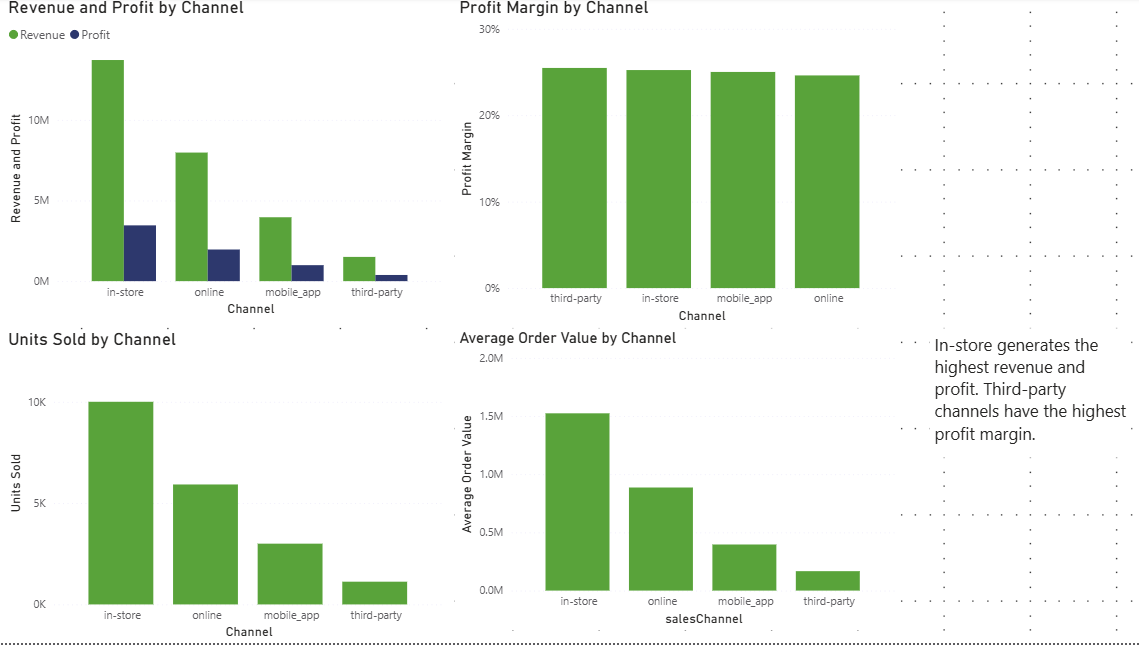

The page's visual inventory and layout, read from the dashboard file:
{"tool":"powerbi","page":{"name":"Channel Insights","canvas":[1280,720],"ordinal":2},"visuals":[{"type":"clusteredColumnChart","fields":{"Category":["Sheet1.salesChannel"],"Y":["Sum(Sheet1.totalAmount)","Sum(Sheet1.Profit)"]},"box":[10,0,495,360],"z":0},{"type":"clusteredColumnChart","fields":{"Category":["Sheet1.salesChannel"],"Y":["Sum(Sheet1.quantity)"]},"box":[10,370,495,350],"z":1000},{"type":"clusteredColumnChart","fields":{"Category":["Sheet1.salesChannel"],"Y":["Sheet1.Profit Margin"]},"box":[512,0,496,368],"z":2000},{"type":"clusteredColumnChart","title":"Average Order Value by Channel","fields":{"Y":["Sheet1.Average Order Value"],"Category":["Sheet1.salesChannel"]},"box":[512,368,496,336],"z":3000},{"type":"textbox","box":[1040,368,224,144],"z":4000}]}

Visuals, with their boxes in screenshot pixels (x1, y1, x2, y2), scaled from the page's 1280x720 canvas onto the 1139x653 screenshot:
clusteredColumnChart - Sheet1.salesChannel x Sum(Sheet1.totalAmount): rect(9, 0, 449, 326)
clusteredColumnChart - Sheet1.salesChannel x Sum(Sheet1.quantity): rect(9, 336, 449, 652)
clusteredColumnChart - Sheet1.salesChannel x Sheet1.Profit Margin: rect(456, 0, 897, 334)
"Average Order Value by Channel" clusteredColumnChart: rect(456, 334, 897, 638)
textbox: rect(925, 334, 1125, 464)
